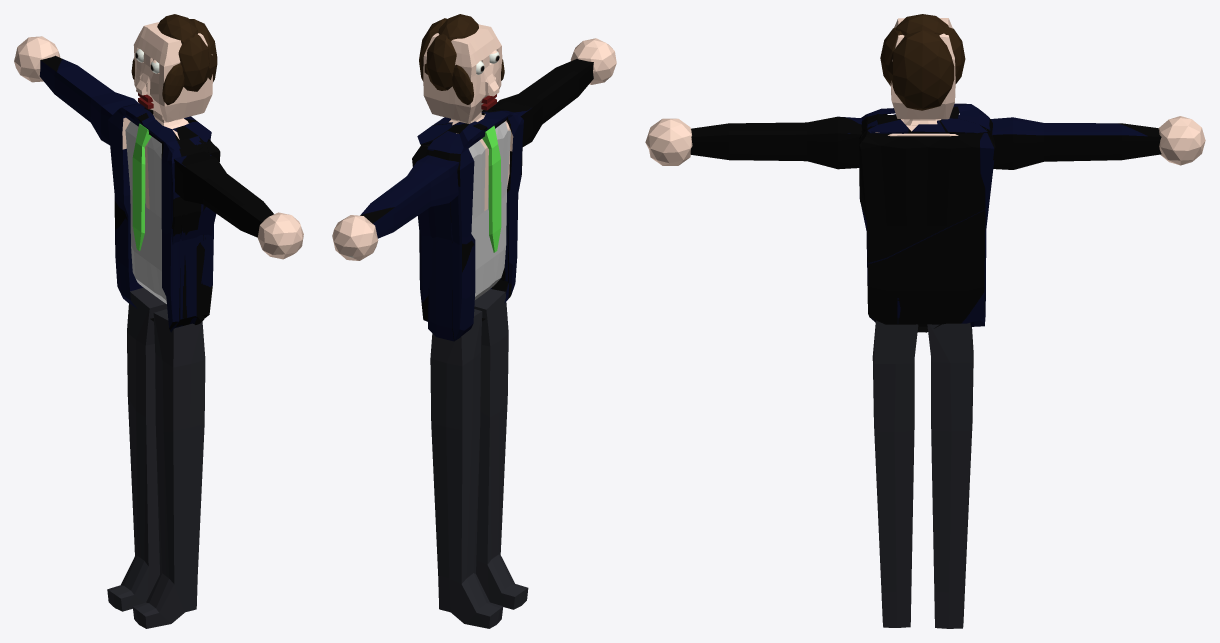
The model's file is Baolo.fbx.
The picture shows the model from 3 angles, left to right: view 1: azimuth 30°, elevation 25°; view 2: azimuth 150°, elevation 25°; view 3: azimuth 270°, elevation 25°; orthographic projection. The views are drawn at different scales.
Parts seen in each view (by area): view 1: Cube; view 2: Cube; view 3: Cube.
Part boxes in pixels (box(x1,y1,x2,y2)): Cube: box(14, 14, 303, 628); Cube: box(332, 14, 616, 628); Cube: box(645, 14, 1205, 628).
Bounding box in the file's own units: 220 × 1470 × 1198.
